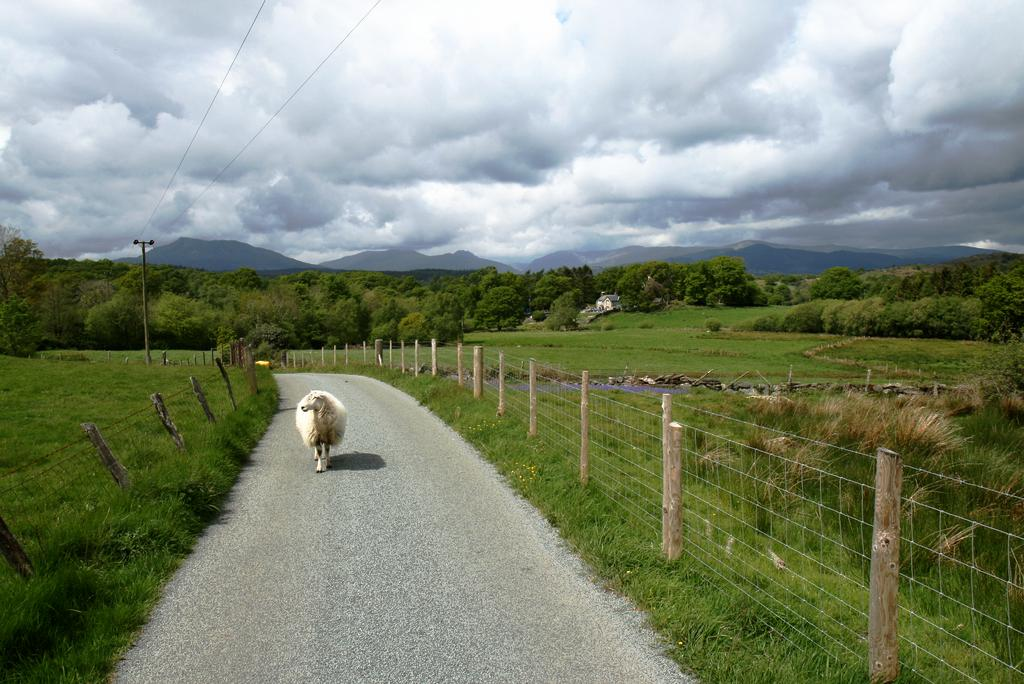Sheep: (290, 388, 351, 474)
